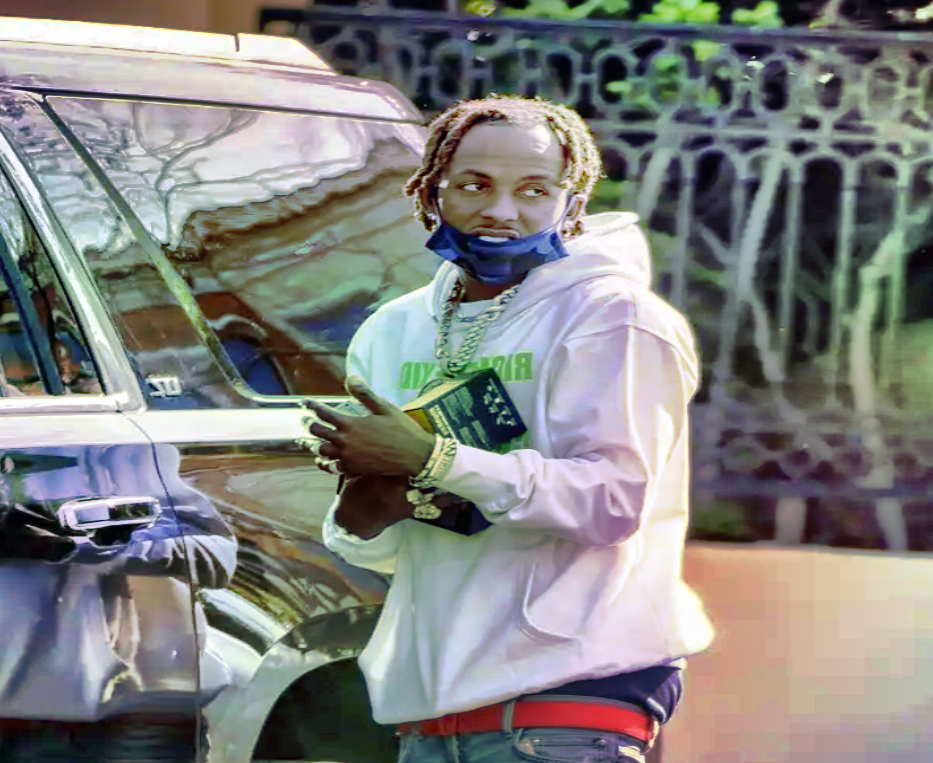mask_weared_incorrect: (406, 97, 598, 288)
